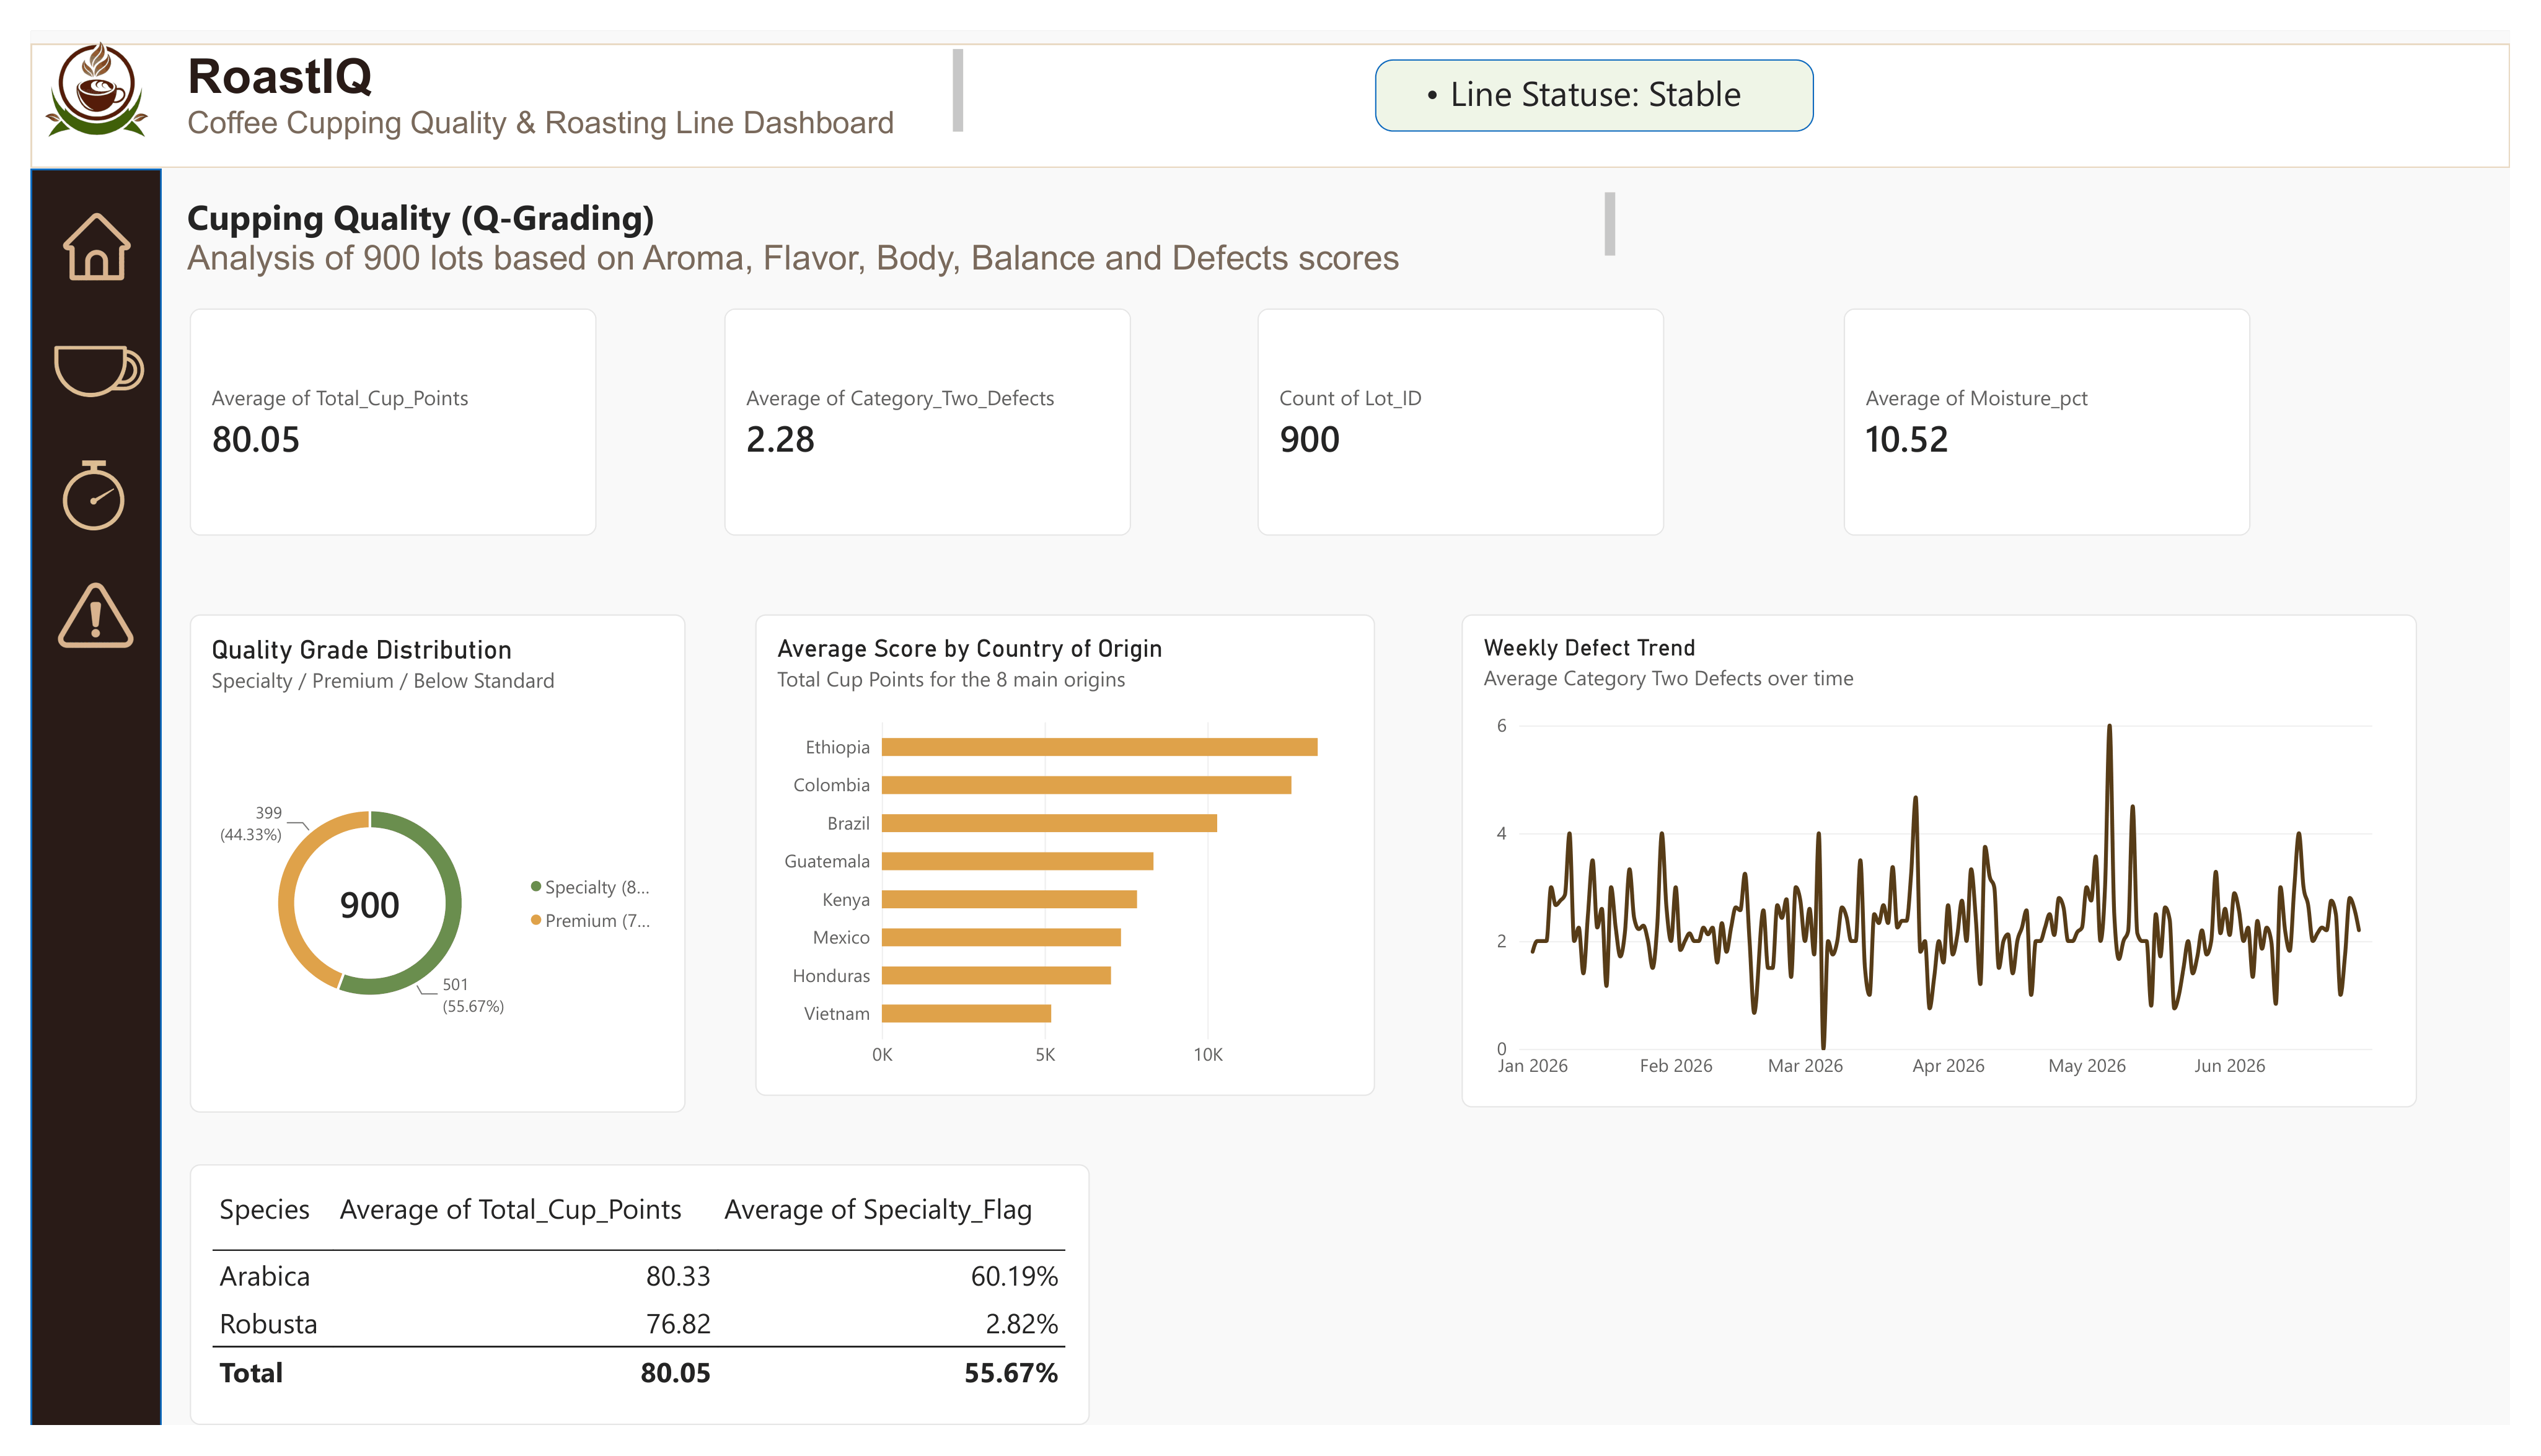

This screenshot's page, from the dashboard's own definition file:
{"tool":"powerbi","page":{"name":"Cupping QC","canvas":[1920,1080],"ordinal":1},"visuals":[{"type":"textbox","box":[121.2,124.9,1105.7,72.4],"z":0},{"type":"shape","box":[0,106.8,101,974],"z":1000},{"type":"cardVisual","fields":{"Data":["Avg(Fact_Cupping.Total_Cup_Points)"]},"box":[123.1,215.3,314.9,175.5],"z":2000},{"type":"cardVisual","fields":{"Data":["Avg(Fact_Cupping.Moisture_pct)"]},"box":[1404.3,215.3,314.9,175.5],"z":3000},{"type":"cardVisual","fields":{"Data":["CountNonNull(Fact_Cupping.Lot_ID)"]},"box":[950.1,215.3,314.9,175.5],"z":4000},{"type":"cardVisual","fields":{"Data":["Avg(Fact_Cupping.Category_Two_Defects)"]},"box":[537.5,215.3,314.9,175.5],"z":5000},{"type":"image","box":[12.7,137.5,77.8,59.7],"z":6000},{"type":"image","box":[10.9,327.5,79.6,63.3],"z":7000},{"type":"image","box":[14.5,423.5,70.6,58],"z":8000},{"type":"image","box":[10.9,231.6,81,61],"z":9000},{"type":"shape","box":[0,10,1920.1,95.9],"z":10000},{"type":"image","box":[2.1,0,97.7,90.5],"z":11000},{"type":"textbox","box":[121.2,14.5,600.8,76],"z":12000},{"type":"shape","box":[1040.8,21.6,340.2,56.1],"z":13000},{"type":"textbox","box":[1058.9,28.8,289.5,49],"z":14000},{"type":"donutChart","title":"Quality Grade Distribution","fields":{"Category":["Fact_Cupping.Grade"],"Y":["CountNonNull(Fact_Cupping.Lot_ID)"]},"box":[123.1,452.4,383.6,385.5],"z":15000},{"type":"clusteredBarChart","title":"Average Score by Country of Origin","fields":{"Category":["Fact_Cupping.Country_of_Origin"],"Y":["Sum(Fact_Cupping.Total_Cup_Points)"]},"box":[561,452.4,479.6,372.8],"z":16000},{"type":"lineChart","title":"Weekly Defect Trend","fields":{"Category":["Fact_Cupping.Date.Variation.Date Hierarchy.Year","Fact_Cupping.Date.Variation.Date Hierarchy.Quarter","Fact_Cupping.Date.Variation.Date Hierarchy.Month","Fact_Cupping.Date.Variation.Date Hierarchy.Day"],"Y":["Avg(Fact_Cupping.Category_Two_Defects)"]},"box":[1107.5,452.4,740.2,381.8],"z":17000},{"type":"tableEx","fields":{"Values":["Fact_Cupping.Species","Avg(Fact_Cupping.Total_Cup_Points)","Avg(Fact_Cupping.Specialty_Flag)"]},"box":[123.1,877.7,696.7,202.7],"z":18000}]}

Visuals, with their boxes on the page's 1920x1080 design canvas (x1, y1, x2, y2). These are canvas units, not pixel positions in the 2541x1456 screenshot, which may show the page scaled, cropped or inside an application window:
textbox: x1=121 y1=125 x2=1227 y2=197
shape: x1=0 y1=107 x2=101 y2=1081
cardVisual - Avg(Fact_Cupping.Total_Cup_Points): x1=123 y1=215 x2=438 y2=391
cardVisual - Avg(Fact_Cupping.Moisture_pct): x1=1404 y1=215 x2=1719 y2=391
cardVisual - CountNonNull(Fact_Cupping.Lot_ID): x1=950 y1=215 x2=1265 y2=391
cardVisual - Avg(Fact_Cupping.Category_Two_Defects): x1=538 y1=215 x2=852 y2=391
image: x1=13 y1=138 x2=90 y2=197
image: x1=11 y1=328 x2=90 y2=391
image: x1=14 y1=424 x2=85 y2=482
image: x1=11 y1=232 x2=92 y2=293
shape: x1=0 y1=10 x2=1920 y2=106
image: x1=2 y1=0 x2=100 y2=90
textbox: x1=121 y1=14 x2=722 y2=90
shape: x1=1041 y1=22 x2=1381 y2=78
textbox: x1=1059 y1=29 x2=1348 y2=78
"Quality Grade Distribution" donutChart: x1=123 y1=452 x2=507 y2=838
"Average Score by Country of Origin" clusteredBarChart: x1=561 y1=452 x2=1041 y2=825
"Weekly Defect Trend" lineChart: x1=1108 y1=452 x2=1848 y2=834
tableEx - Fact_Cupping.Species x Avg(Fact_Cupping.Total_Cup_Points): x1=123 y1=878 x2=820 y2=1080
